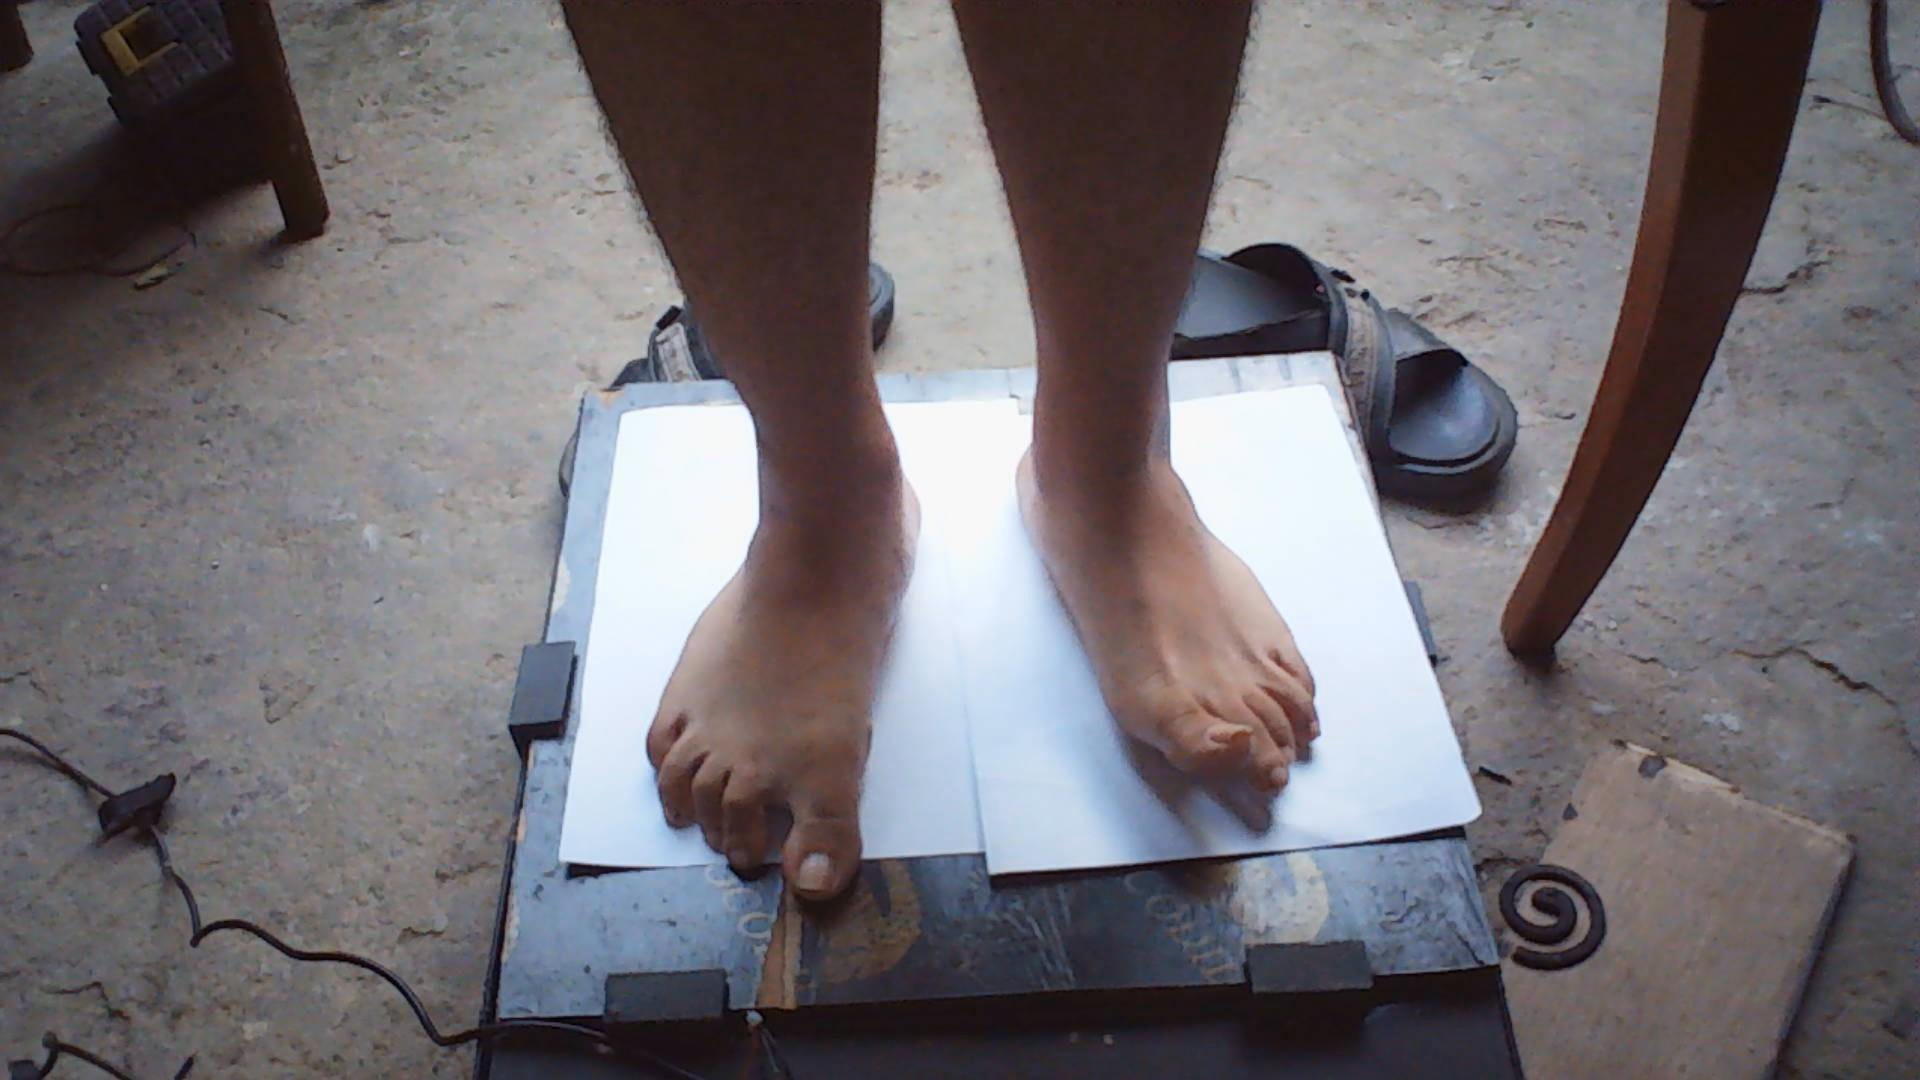Bare_feet: (630, 401, 1365, 885)
